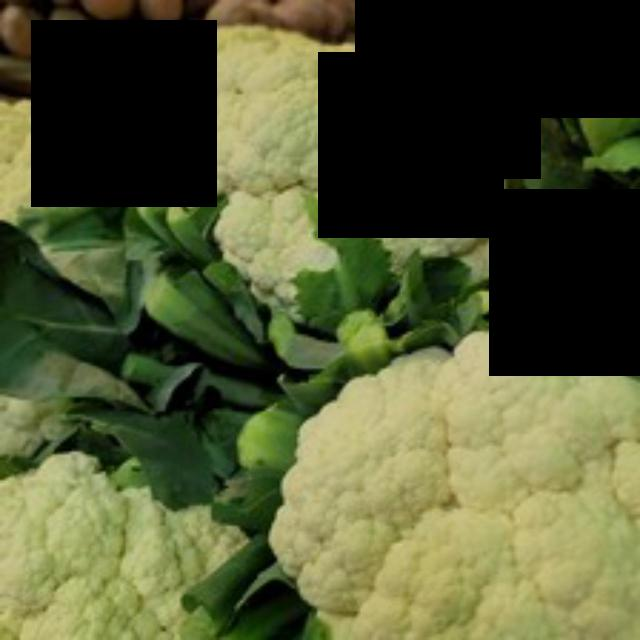cauliflower: (0, 26, 534, 300), (268, 320, 637, 637)
